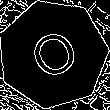O_SE: (21, 22, 85, 87)
